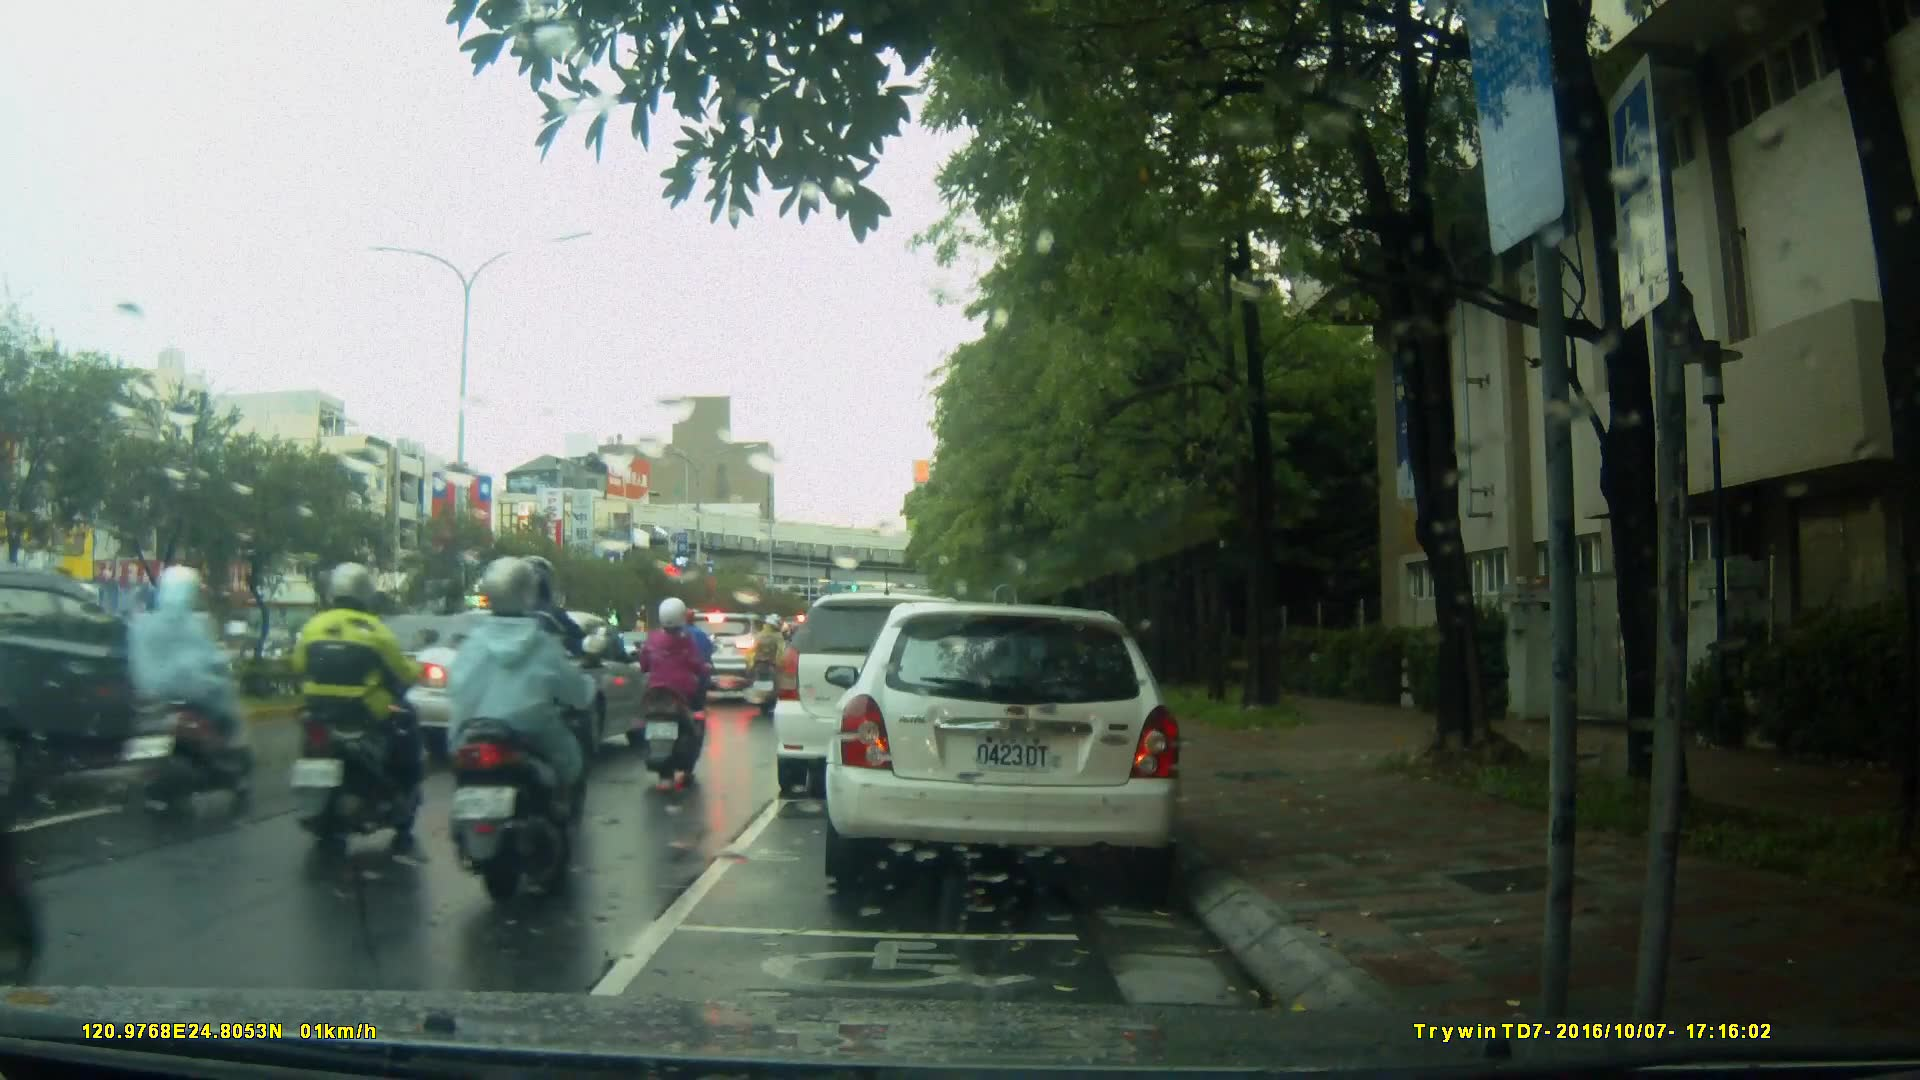rider: (449, 558, 602, 906), (292, 555, 439, 864), (112, 562, 252, 836), (478, 556, 599, 833), (638, 598, 707, 792), (749, 614, 788, 719), (674, 608, 713, 707)
vehicle: (822, 604, 1188, 883), (774, 595, 995, 802), (403, 608, 655, 770), (669, 613, 784, 703)
